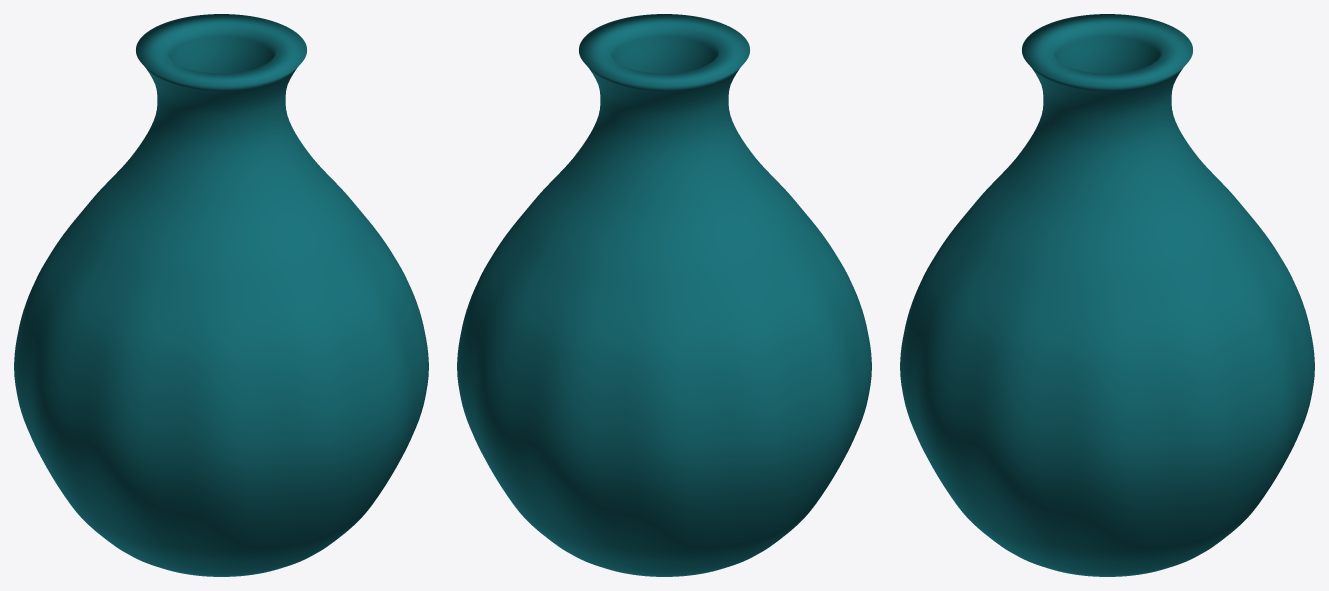
File: a5-twin-orbit-vase.glb
The picture shows the model from 3 angles, left to right: view 1: azimuth 30°, elevation 25°; view 2: azimuth 150°, elevation 25°; view 3: azimuth 270°, elevation 25°; orthographic projection.
Visible parts, largest first — view 1: A5 Orbit Vase | single open vessel; view 2: A5 Orbit Vase | single open vessel; view 3: A5 Orbit Vase | single open vessel.
Part boxes in pixels (x1,y1,x2,y2): A5 Orbit Vase | single open vessel: (14, 14, 428, 576); A5 Orbit Vase | single open vessel: (457, 14, 871, 576); A5 Orbit Vase | single open vessel: (900, 14, 1314, 576).
Size of the model in its own units: 1.5 by 1.94 by 1.5.
